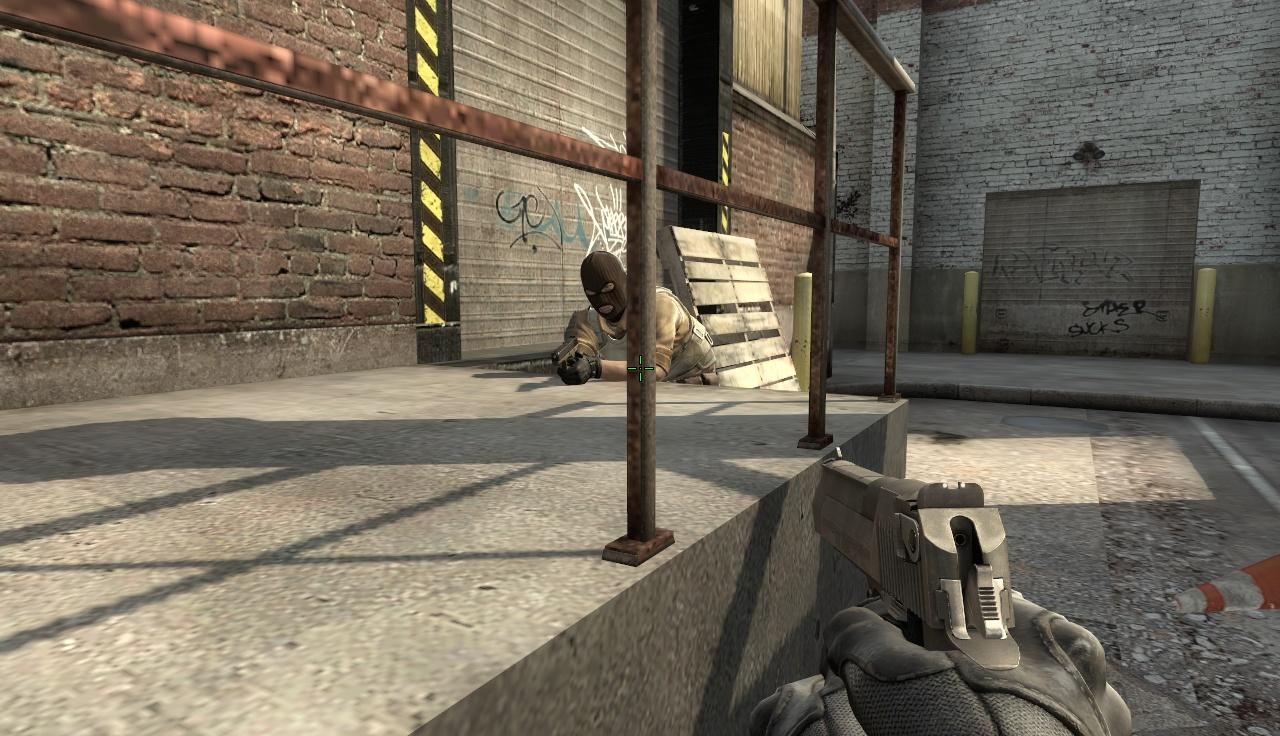pistol: (808, 444, 1130, 736)
tt: (578, 251, 718, 387)
tthead: (580, 252, 627, 319)
